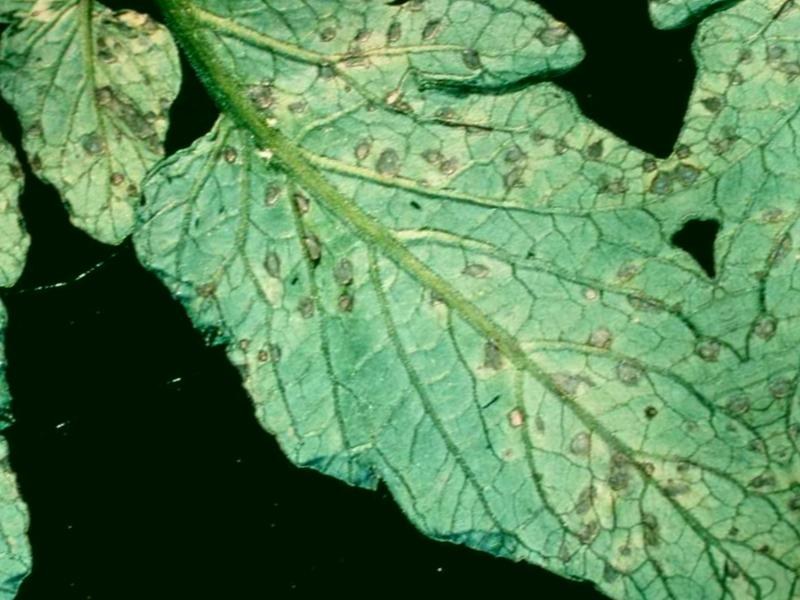Tomato Septoria leaf spot: (16, 0, 800, 600), (0, 0, 239, 265)
